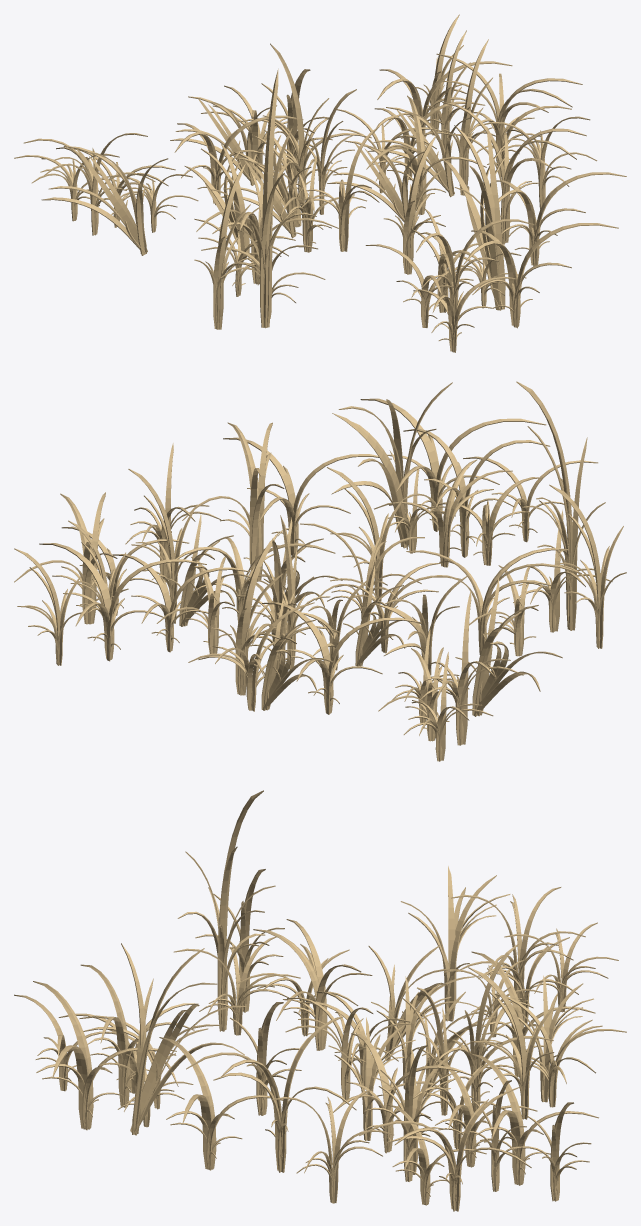
Rendered from grass 1.FBX.
The picture shows the model from 3 angles, top to bottom: view 1: azimuth 30°, elevation 25°; view 2: azimuth 150°, elevation 25°; view 3: azimuth 270°, elevation 25°; orthographic projection. The views are drawn at different scales.
Parts seen in each view (by area): view 1: Grass bundle43; view 2: Grass bundle43; view 3: Grass bundle43.
Boxes of the visible parts, x1,y1,x2,y2 form: Grass bundle43: (14,14,626,352); Grass bundle43: (14,381,626,761); Grass bundle43: (14,790,626,1211).
Bounding box in the file's own units: 14.28 × 6.49 × 13.96.
